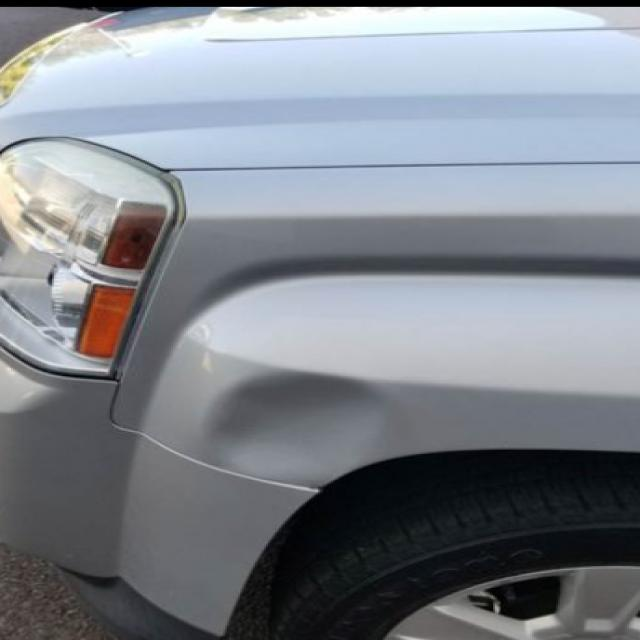dents: (196, 368, 412, 474)
